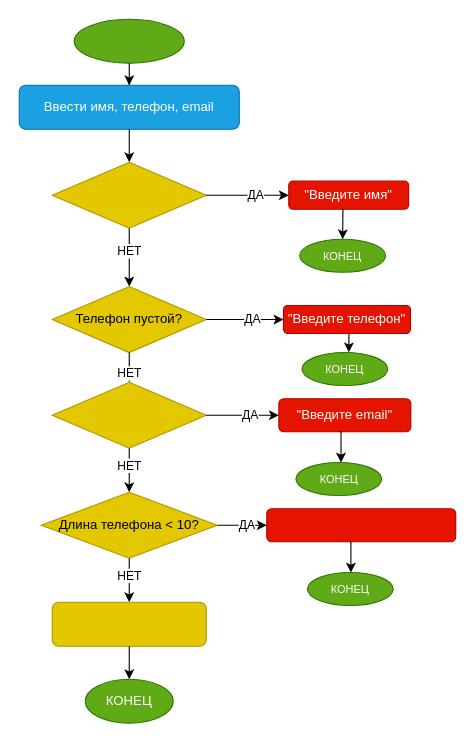
The diagram is 475 pixels wide and 743 high, and some of its shapes have lost their labels. The centre of each missing label's shape, as x and y in pixels:
"Данные приняты": point (128, 623)
"Телефон слишком короткий": point (361, 525)
Email пустой?: point (128, 414)
Имя пустое?: point (128, 194)
НАЧАЛО: point (128, 40)
